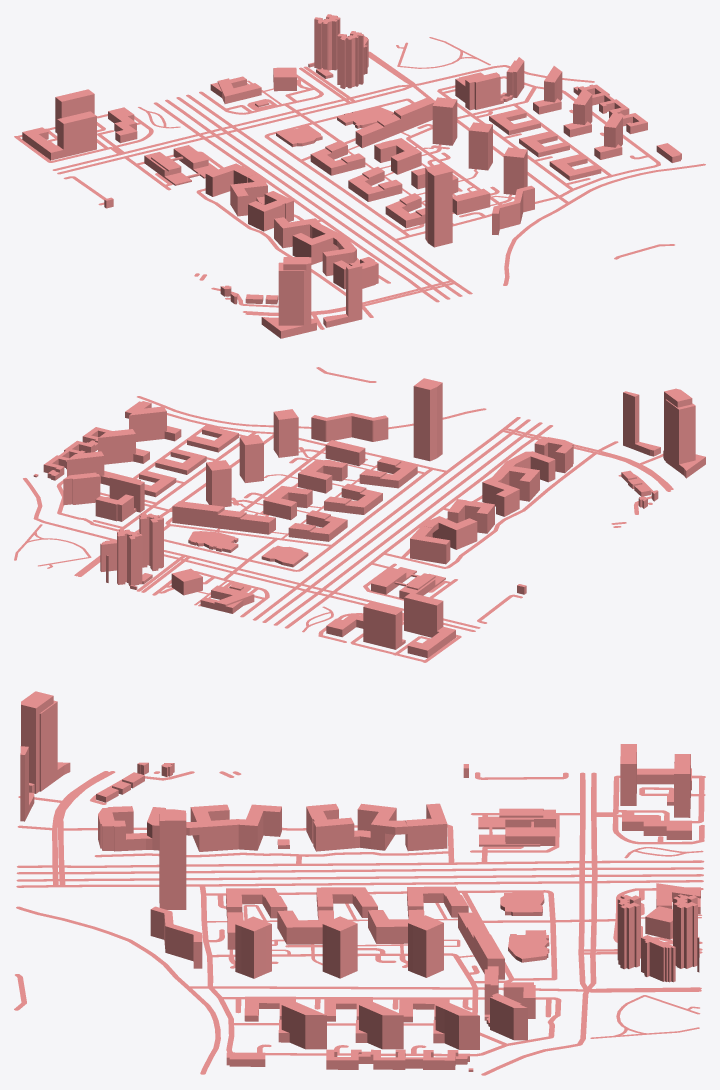
File: chengdu-ruanjianyuan.gltf
3 views of the same model, one above another, from view 1: azimuth 30°, elevation 25°; view 2: azimuth 150°, elevation 25°; view 3: azimuth 270°, elevation 25° (orthographic). The views are drawn at different scales.
Parts seen in each view (by area): view 1: group_35, group_117, group_224, group_208, group_16, group_95, group_127, group_235, group_200, group_13, group_18, group_193 (+37 smaller); view 2: group_35, group_117, group_221, group_224, group_126, group_208, group_191, group_95, group_16, group_134, group_18, group_235 (+40 smaller); view 3: group_117, group_35, group_224, group_220, group_193, group_21, group_235, group_200, group_13, group_127, group_221, group_95 (+45 smaller).
Part boxes in pixels (left/top/right/bottom): group_35: left=425, top=163, right=452, bottom=247; group_117: left=274, top=217, right=340, bottom=264; group_224: left=278, top=262, right=311, bottom=333; group_208: left=57, top=111, right=96, bottom=157; group_16: left=337, top=31, right=363, bottom=88; group_95: left=314, top=14, right=340, bottom=70; group_127: left=248, top=191, right=293, bottom=231; group_235: left=165, top=99, right=450, bottom=299; group_200: left=186, top=94, right=472, bottom=294; group_13: left=176, top=97, right=462, bottom=296; group_18: left=374, top=138, right=421, bottom=174; group_193: left=432, top=97, right=457, bottom=145; group_35: left=413, top=378, right=442, bottom=461; group_117: left=482, top=464, right=539, bottom=516; group_221: left=311, top=413, right=388, bottom=441; group_224: left=664, top=398, right=695, bottom=471; group_126: left=363, top=602, right=402, bottom=649; group_208: left=404, top=593, right=443, bottom=637; group_191: left=172, top=510, right=275, bottom=534; group_95: left=117, top=529, right=142, bottom=585; group_16: left=139, top=513, right=163, bottom=570; group_134: left=298, top=459, right=347, bottom=493; group_18: left=263, top=486, right=312, bottom=520; group_235: left=273, top=422, right=542, bottom=625; group_117: left=190, top=804, right=281, bottom=851; group_35: left=159, top=809, right=186, bottom=909; group_224: left=21, top=700, right=57, bottom=793; group_220: left=235, top=916, right=271, bottom=978; group_193: left=408, top=915, right=443, bottom=977; group_21: left=322, top=916, right=357, bottom=978; group_235: left=16, top=867, right=703, bottom=874; group_200: left=16, top=880, right=703, bottom=887; group_13: left=16, top=874, right=703, bottom=881; group_127: left=306, top=803, right=354, bottom=851; group_221: left=150, top=906, right=202, bottom=968; group_95: left=673, top=894, right=697, bottom=968.
Size of the model in its own units: 1032 by 141 by 990.
